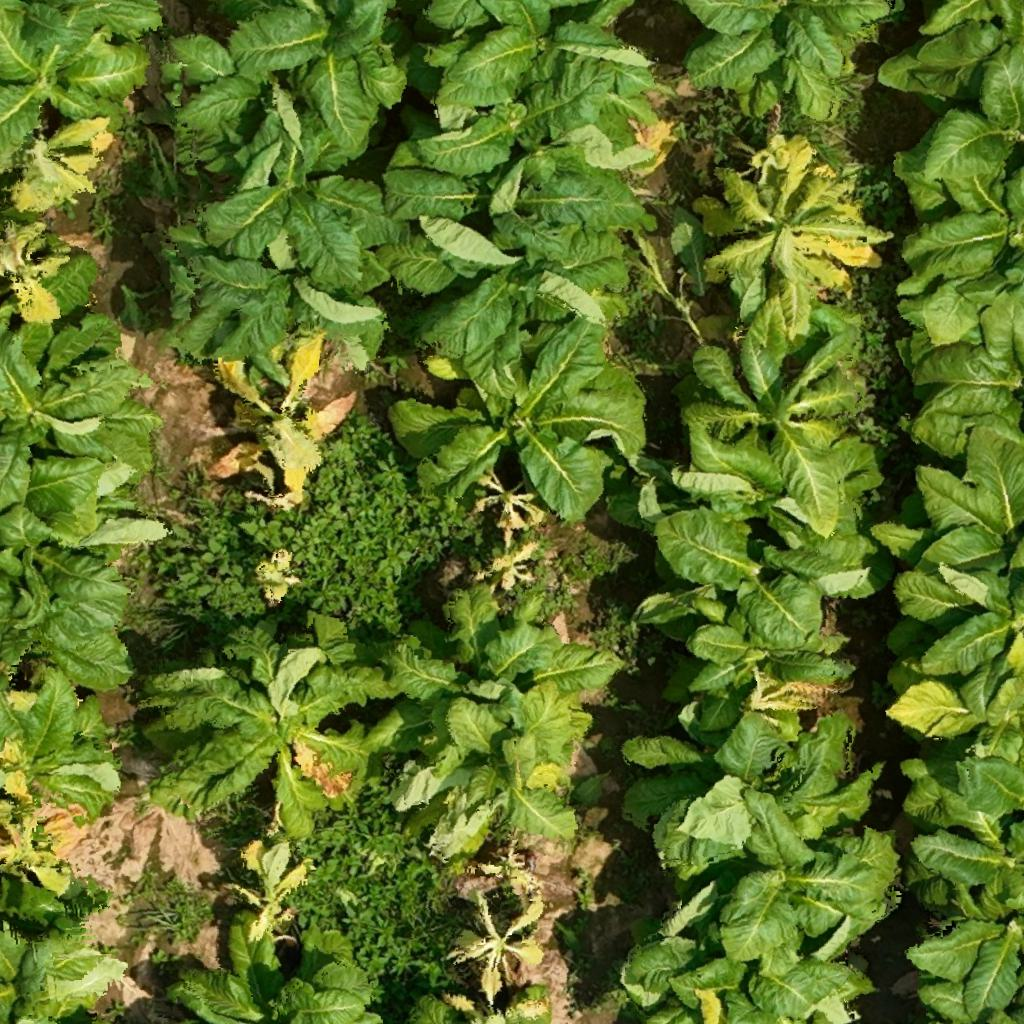disease: (150, 630, 380, 845), (690, 132, 900, 338), (198, 325, 372, 520), (394, 708, 600, 866), (614, 924, 878, 1023), (0, 680, 132, 823), (887, 664, 1023, 770), (2, 128, 134, 218), (445, 894, 556, 998), (222, 839, 319, 943), (0, 215, 84, 332), (744, 662, 851, 732), (462, 828, 563, 898), (0, 823, 85, 900), (469, 470, 545, 544), (246, 536, 302, 608), (476, 545, 546, 593)
healthy: (676, 336, 896, 520), (408, 344, 650, 508), (643, 800, 908, 938), (641, 515, 889, 644), (623, 712, 890, 830), (673, 2, 900, 128), (384, 594, 620, 714), (159, 247, 402, 358), (418, 1, 668, 107), (230, 6, 414, 147), (171, 142, 397, 256), (0, 328, 170, 478), (408, 231, 635, 337), (396, 156, 674, 240), (148, 940, 401, 1023), (2, 2, 158, 126), (889, 762, 1020, 908), (0, 500, 146, 630), (684, 621, 858, 729), (899, 451, 1023, 602), (891, 306, 1023, 444), (896, 210, 1023, 349), (883, 5, 1023, 131), (416, 103, 643, 169), (892, 111, 1023, 220), (906, 904, 1023, 1022), (889, 586, 1023, 686), (0, 926, 129, 1022), (128, 630, 140, 634)
